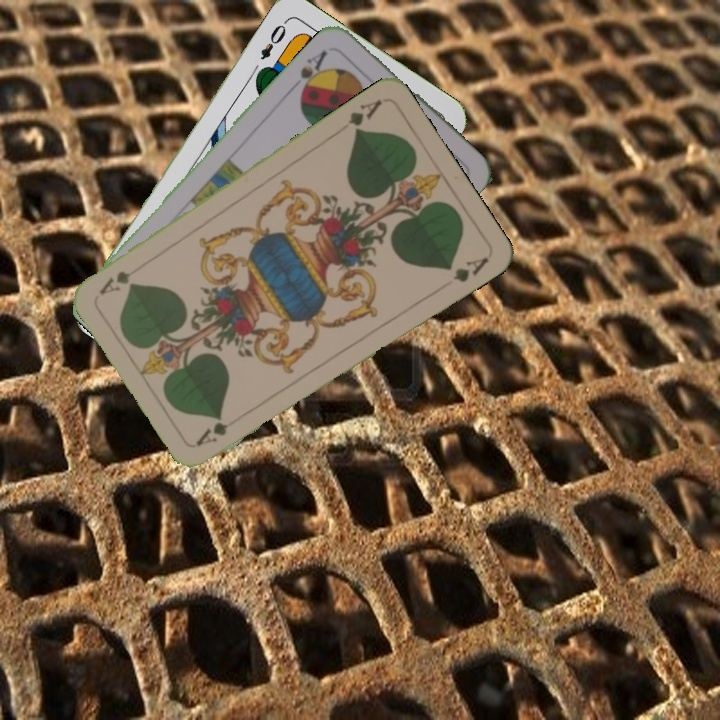EO: (256, 16, 290, 63)
GA: (192, 410, 246, 449), (344, 95, 385, 136)
SA: (289, 46, 331, 97)
